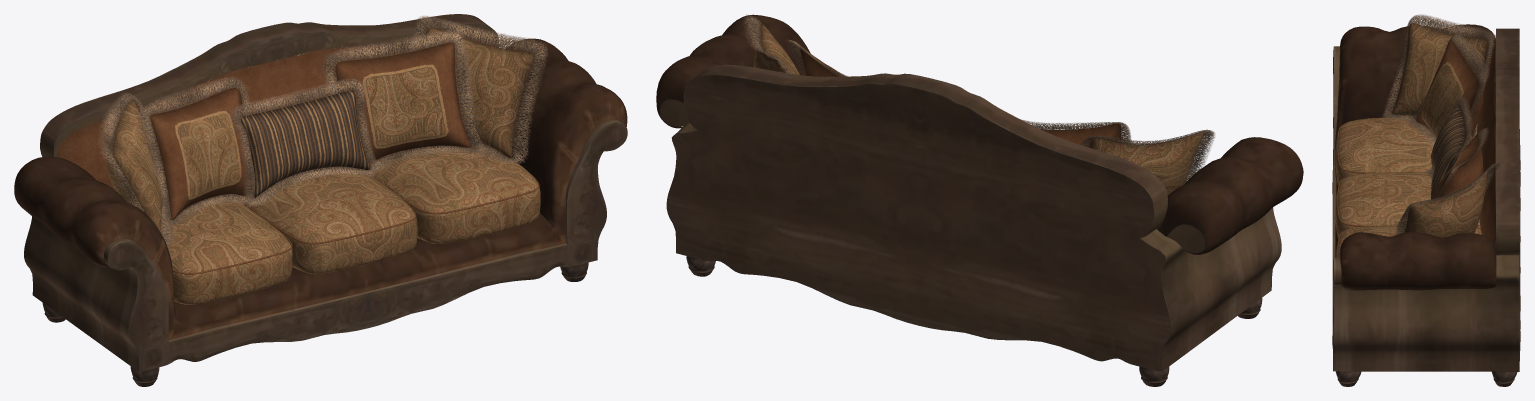
File: SheenWoodLeatherSofa.glb
3 views of the same model, side by side, from view 1: azimuth 30°, elevation 25°; view 2: azimuth 150°, elevation 25°; view 3: azimuth 270°, elevation 25° (orthographic). The views are drawn at different scales.
Visible parts, largest first — view 1: Frame, Paisley, Fringe, Brown, Stripes, Frame_Fabric; view 2: Frame, Paisley, Fringe, Brown; view 3: Frame, Paisley, Fringe, Brown, Frame_Fabric, Stripes.
Boxes of the visible parts, x1=… form: Frame: x1=14, y1=14, x2=627, y2=386; Paisley: x1=107, y1=27, x2=540, y2=304; Fringe: x1=98, y1=16, x2=547, y2=246; Brown: x1=150, y1=42, x2=539, y2=274; Stripes: x1=174, y1=64, x2=448, y2=199; Frame_Fabric: x1=57, y1=34, x2=494, y2=189; Frame: x1=656, y1=14, x2=1303, y2=386; Paisley: x1=754, y1=23, x2=1204, y2=194; Fringe: x1=743, y1=14, x2=1215, y2=182; Brown: x1=800, y1=46, x2=1121, y2=147; Frame: x1=1332, y1=24, x2=1520, y2=386; Paisley: x1=1335, y1=23, x2=1487, y2=257; Fringe: x1=1382, y1=14, x2=1499, y2=235; Brown: x1=1336, y1=40, x2=1483, y2=257; Frame_Fabric: x1=1477, y1=39, x2=1495, y2=245; Stripes: x1=1422, y1=61, x2=1472, y2=198.
Size of the model in its own units: 2.73 by 1.12 by 0.9231.
Materials: 6 (6 with a texture image).
